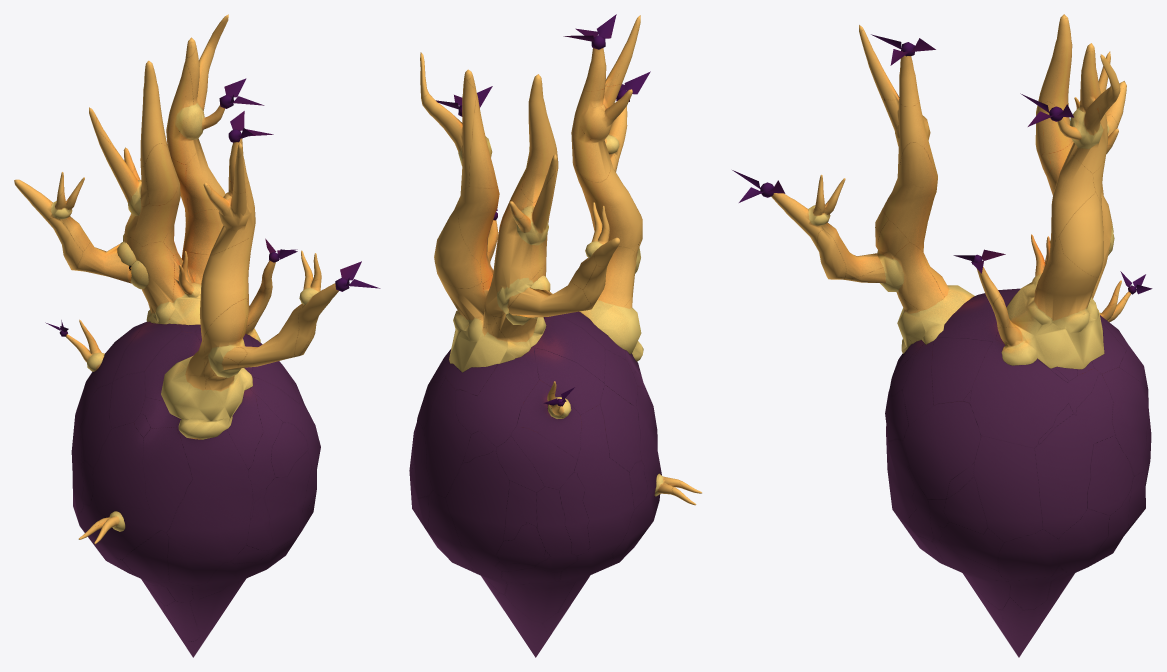
The model's file is tree1.fbx.
3 renders of one model, left to right at view 1: azimuth 30°, elevation 25°; view 2: azimuth 150°, elevation 25°; view 3: azimuth 270°, elevation 25°, orthographic. The views are drawn at different scales.
Visible parts, largest first — view 1: Sphere, Small Branch.001, Leaves.002; view 2: Sphere, Small Branch.001, Leaves.002; view 3: Sphere, Small Branch.001, Leaves.002.
Part boxes in pixels (<box>): Sphere: <box>71,321,320,657</box>; Small Branch.001: <box>14,14,338,544</box>; Leaves.002: <box>45,78,380,336</box>; Sphere: <box>409,311,661,657</box>; Small Branch.001: <box>420,15,701,505</box>; Leaves.002: <box>436,14,650,406</box>; Sphere: <box>885,288,1151,657</box>; Small Branch.001: <box>771,14,1131,369</box>; Leaves.002: <box>732,34,1152,294</box>.
Size of the model in its own units: 228 by 538 by 320.
